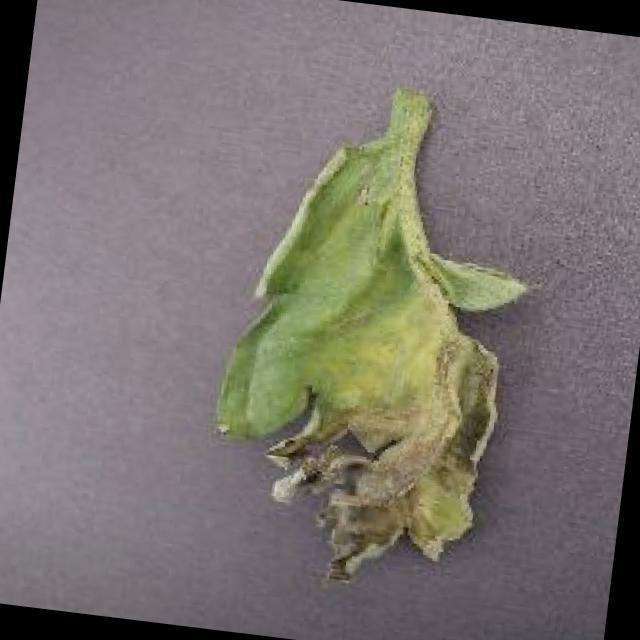Tomato late blight leaf: (194, 114, 550, 612)
